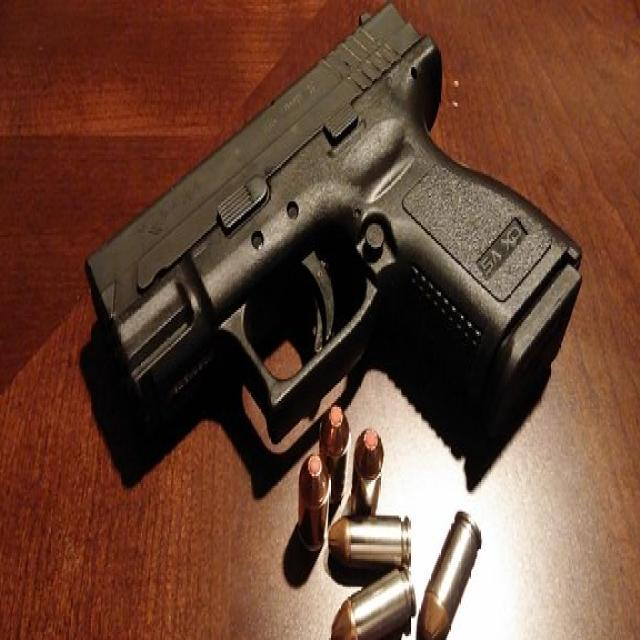Weapon: (87, 2, 580, 440)
